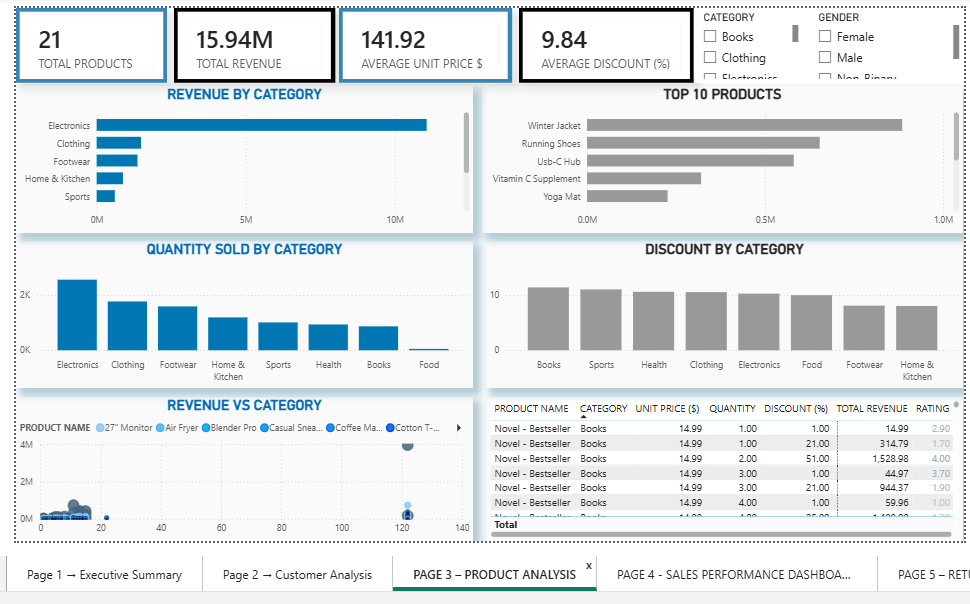

This screenshot's page, from the dashboard's own definition file:
{"tool":"powerbi","page":{"name":"PAGE 3 – PRODUCT ANALYSIS","canvas":[1280,720],"ordinal":2},"visuals":[{"type":"cardVisual","fields":{"Data":["Count(Fresh Sales Data.PRODUCT ID)"]},"box":[0,0,204.1,101.4],"z":0},{"type":"cardVisual","fields":{"Data":["Sum(Fresh Sales Data.TOTAL REVENUE)"]},"box":[213.5,0,217.6,101.4],"z":1000},{"type":"cardVisual","fields":{"Data":["Avg(Fresh Sales Data.UNIT PRICE ($))"]},"box":[436.5,0,233.8,101.4],"z":2000},{"type":"cardVisual","fields":{"Data":["Avg(Fresh Sales Data.DISCOUNT (%))"]},"box":[679.7,0,236.5,101.4],"z":3000},{"type":"clusteredBarChart","title":" REVENUE BY CATEGORY","fields":{"Category":["Fresh Sales Data.CATEGORY"],"Y":["Sum(Fresh Sales Data.TOTAL REVENUE)"]},"box":[0,105.4,617.6,198.6],"z":4000},{"type":"barChart","title":"TOP 10 PRODUCTS","fields":{"Category":["Fresh Sales Data.PRODUCT NAME"],"Y":["Sum(Fresh Sales Data.TOTAL REVENUE)"]},"box":[629.7,105.4,650,198.6],"z":5000},{"type":"columnChart","title":" QUANTITY SOLD BY  CATEGORY","fields":{"Category":["Fresh Sales Data.CATEGORY"],"Y":["Sum(Fresh Sales Data.QUANTITY)"]},"box":[0,314.9,617.6,198.6],"z":6000},{"type":"clusteredColumnChart","title":"DISCOUNT BY CATEGORY","fields":{"Category":["Fresh Sales Data.CATEGORY"],"Y":["Avg(Fresh Sales Data.DISCOUNT (%))"]},"box":[635.1,314.9,644.6,198.6],"z":7000},{"type":"scatterChart","title":"REVENUE VS CATEGORY","fields":{"X":["Fresh Sales Data.QUANTITY"],"Y":["Fresh Sales Data.TOTAL REVENUE"],"Series":["Fresh Sales Data.PRODUCT NAME"],"Size":["Avg(Fresh Sales Data.UNIT PRICE ($))"]},"box":[0,525.7,617.6,194.6],"z":8000},{"type":"tableEx","fields":{"Values":["Fresh Sales Data.PRODUCT NAME","Fresh Sales Data.CATEGORY","Fresh Sales Data.UNIT PRICE ($)","Fresh Sales Data.QUANTITY","Fresh Sales Data.DISCOUNT (%)","Fresh Sales Data.TOTAL REVENUE","Fresh Sales Data.RATING"]},"box":[635.1,525.7,644.6,194.6],"z":9000},{"type":"slicer","fields":{"Values":["Fresh Sales Data.CATEGORY"]},"box":[916.2,0,145.9,101.4],"z":10000},{"type":"slicer","fields":{"Values":["Fresh Sales Data.GENDER"]},"box":[1071.6,0,208.1,101.4],"z":11000}]}

Visuals, with their boxes on the page's 1280x720 design canvas (x1, y1, x2, y2). These are canvas units, not pixel positions in the 970x604 screenshot, which may show the page scaled, cropped or inside an application window:
cardVisual - Count(Fresh Sales Data.PRODUCT ID): bbox=[0, 0, 204, 101]
cardVisual - Sum(Fresh Sales Data.TOTAL REVENUE): bbox=[214, 0, 431, 101]
cardVisual - Avg(Fresh Sales Data.UNIT PRICE ($)): bbox=[436, 0, 670, 101]
cardVisual - Avg(Fresh Sales Data.DISCOUNT (%)): bbox=[680, 0, 916, 101]
" REVENUE BY CATEGORY" clusteredBarChart: bbox=[0, 105, 618, 304]
"TOP 10 PRODUCTS" barChart: bbox=[630, 105, 1280, 304]
" QUANTITY SOLD BY  CATEGORY" columnChart: bbox=[0, 315, 618, 514]
"DISCOUNT BY CATEGORY" clusteredColumnChart: bbox=[635, 315, 1280, 514]
"REVENUE VS CATEGORY" scatterChart: bbox=[0, 526, 618, 720]
tableEx - Fresh Sales Data.PRODUCT NAME x Fresh Sales Data.CATEGORY: bbox=[635, 526, 1280, 720]
slicer - Fresh Sales Data.CATEGORY: bbox=[916, 0, 1062, 101]
slicer - Fresh Sales Data.GENDER: bbox=[1072, 0, 1280, 101]
